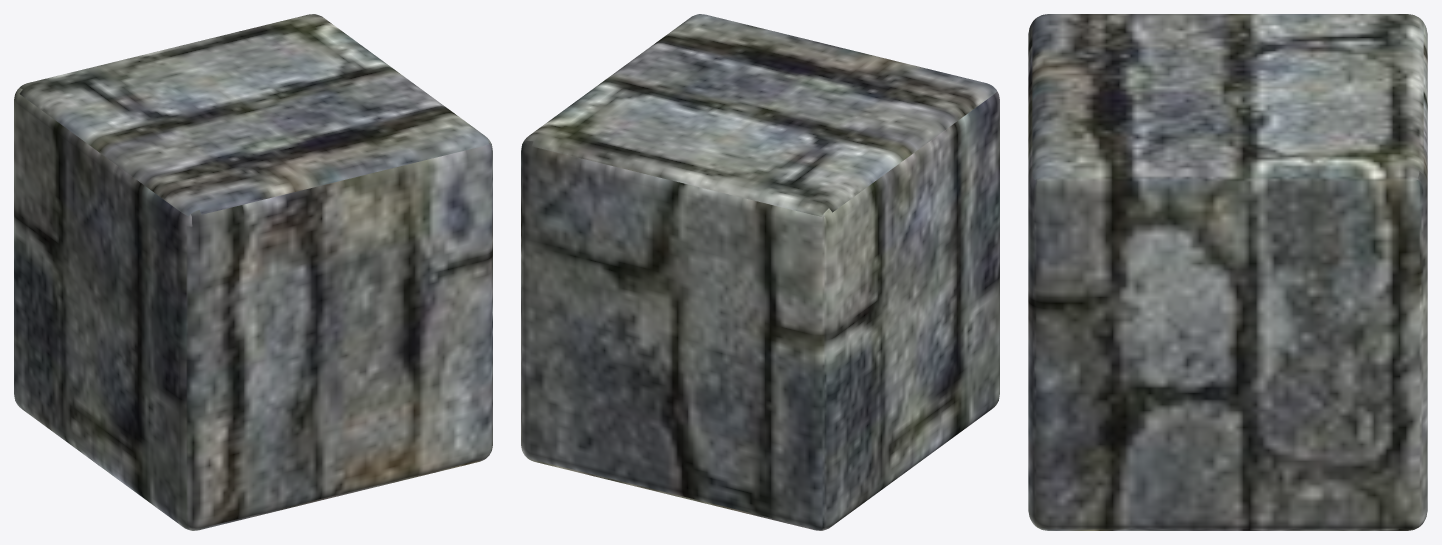
The picture shows the model from 3 angles, left to right: view 1: azimuth 30°, elevation 25°; view 2: azimuth 150°, elevation 25°; view 3: azimuth 270°, elevation 25°; orthographic projection. The views are drawn at different scales.
Visible parts, largest first — view 1: Cube_Finished_Cube.001; view 2: Cube_Finished_Cube.001; view 3: Cube_Finished_Cube.001.
Boxes of the visible parts, x1,y1,x2,y2 form: Cube_Finished_Cube.001: (14,14,492,530); Cube_Finished_Cube.001: (521,14,999,530); Cube_Finished_Cube.001: (1028,14,1427,530).
Bounding box in the file's own units: 2 × 2 × 2.
1 material, 1 textured.
